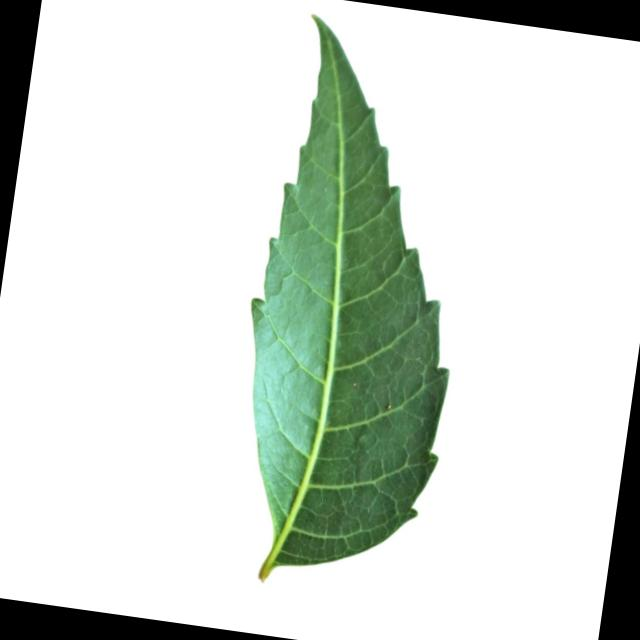Medicinal-Neem: (212, 9, 499, 607)
